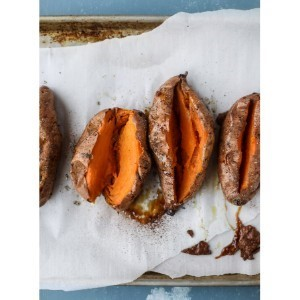sweet potato_brain food: (63, 68, 217, 219)
